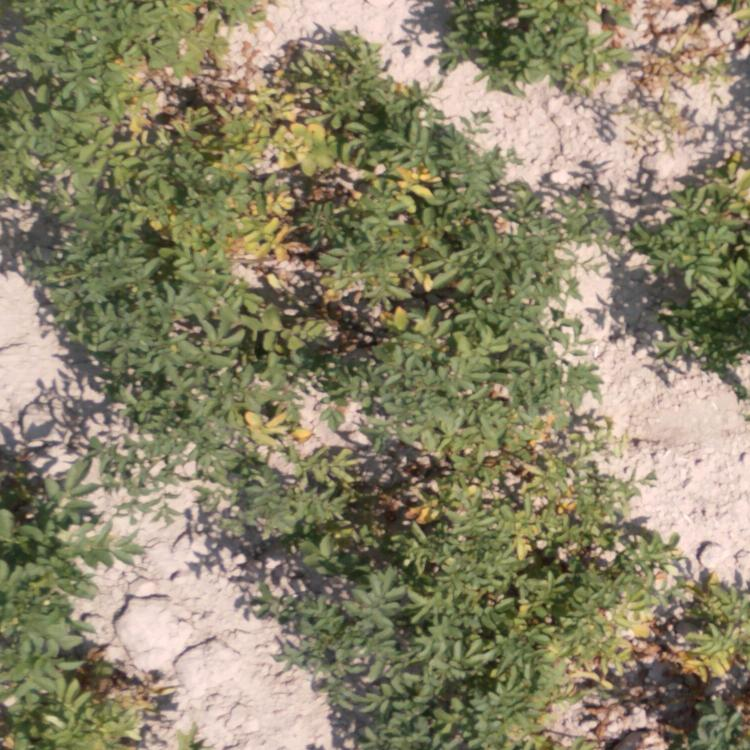healthy: (1, 464, 140, 749), (340, 522, 498, 750), (2, 10, 101, 252), (57, 266, 201, 430), (206, 460, 331, 624), (483, 163, 564, 356), (456, 1, 596, 80), (118, 1, 222, 60)
stressed: (129, 67, 363, 264), (508, 470, 673, 688), (360, 83, 468, 364), (221, 300, 357, 453), (643, 161, 750, 353), (366, 372, 502, 507), (611, 1, 745, 125), (686, 570, 750, 738), (513, 366, 606, 470)
